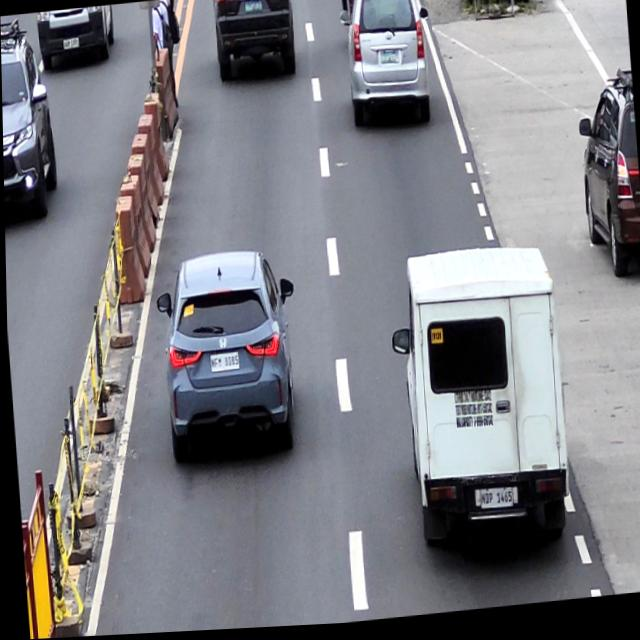Car: (399, 245, 570, 558), (158, 252, 297, 466), (343, 0, 430, 137), (211, 0, 300, 80)
License-Plate: (477, 491, 513, 518), (208, 354, 240, 377), (379, 51, 400, 69), (243, 0, 264, 17)
